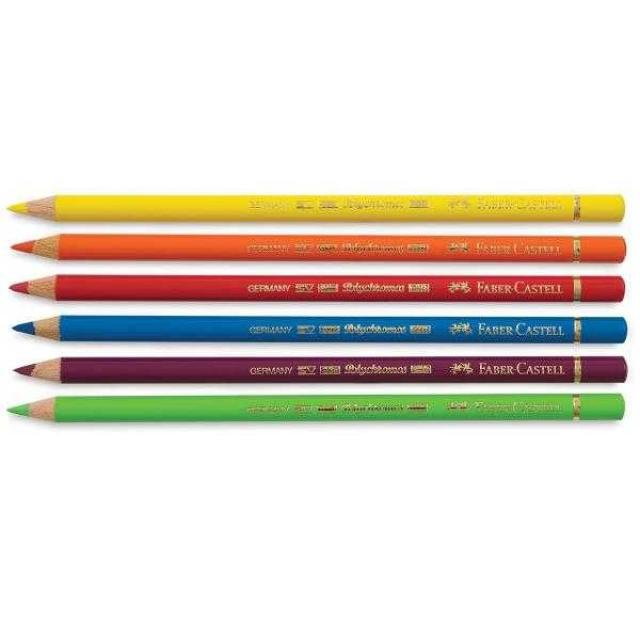pencil: (2, 169, 631, 229), (0, 381, 636, 435), (7, 344, 630, 398), (0, 223, 638, 273), (2, 261, 639, 310), (3, 305, 638, 353)
